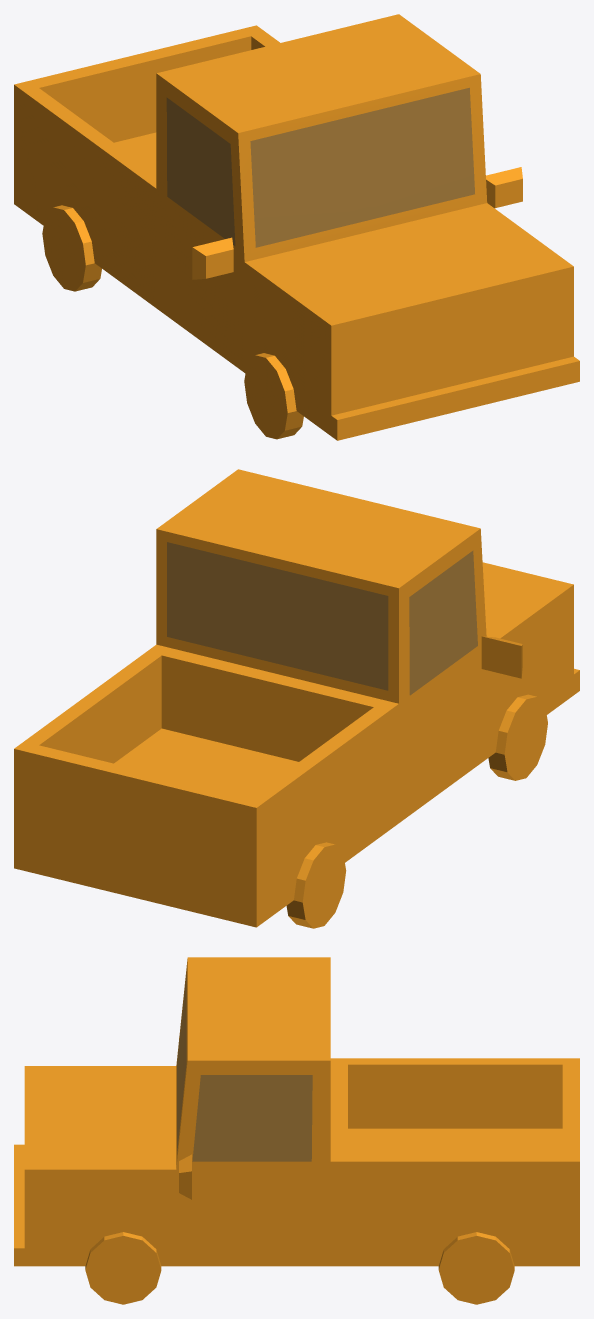
The model's file is SM_Icon_Ute_01.fbx.
3 renders of one model, top to bottom at view 1: azimuth 30°, elevation 25°; view 2: azimuth 150°, elevation 25°; view 3: azimuth 270°, elevation 25°, orthographic. The views are drawn at different scales.
Visible parts, largest first — view 1: SM_Icon_Ute_01; view 2: SM_Icon_Ute_01; view 3: SM_Icon_Ute_01.
Boxes of the visible parts, x1,y1,x2,y2 form: SM_Icon_Ute_01: (14, 14, 579, 440); SM_Icon_Ute_01: (14, 469, 579, 928); SM_Icon_Ute_01: (14, 957, 579, 1304).
Size of the model in its own units: 43.8 by 34.91 by 74.54.
